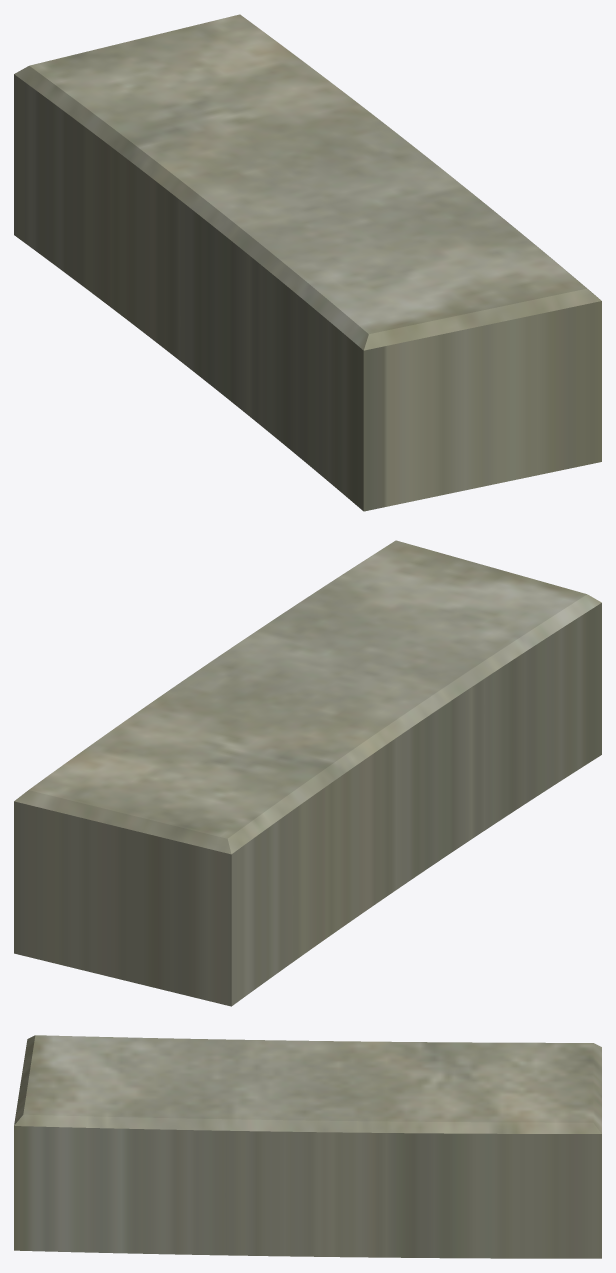
Rendered from f03-t-stone-pool-trim-half.glb.
3 views of the same model, one above another, from view 1: azimuth 30°, elevation 25°; view 2: azimuth 150°, elevation 25°; view 3: azimuth 270°, elevation 25° (orthographic). The views are drawn at different scales.
Parts seen in each view (by area): view 1: f03-t-stone-pool-trim-half; view 2: f03-t-stone-pool-trim-half; view 3: f03-t-stone-pool-trim-half.
Part boxes in pixels (left/top/right/bottom): f03-t-stone-pool-trim-half: left=14, top=14, right=601, bottom=511; f03-t-stone-pool-trim-half: left=14, top=540, right=601, bottom=1006; f03-t-stone-pool-trim-half: left=14, top=1035, right=601, bottom=1258.
Bounding box in the file's own units: 0.2074 × 0.135 × 0.5427.
Materials: 1 (1 with a texture image).
